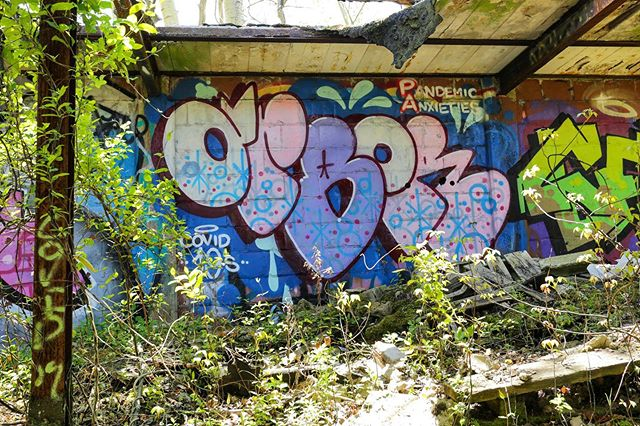graffiti: (166, 79, 495, 282), (481, 95, 640, 266)
vegetation: (107, 283, 635, 426)
